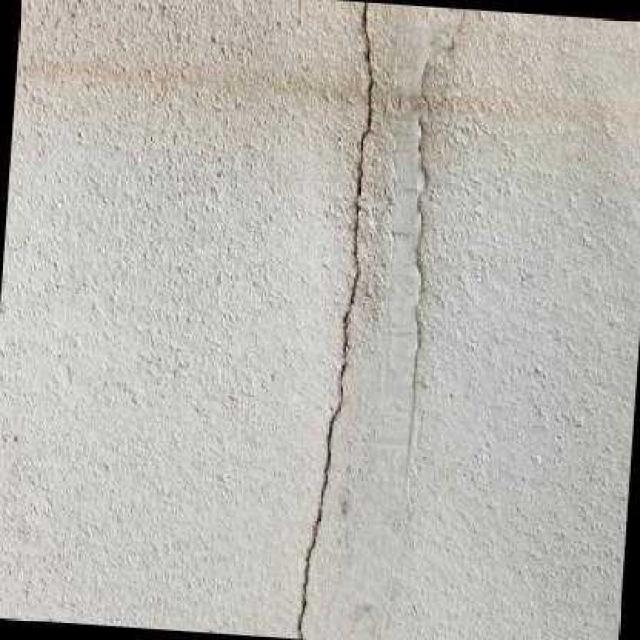D00: (297, 2, 374, 638)
